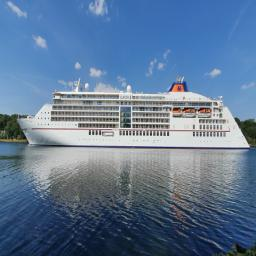cruises: (17, 75, 252, 154)
